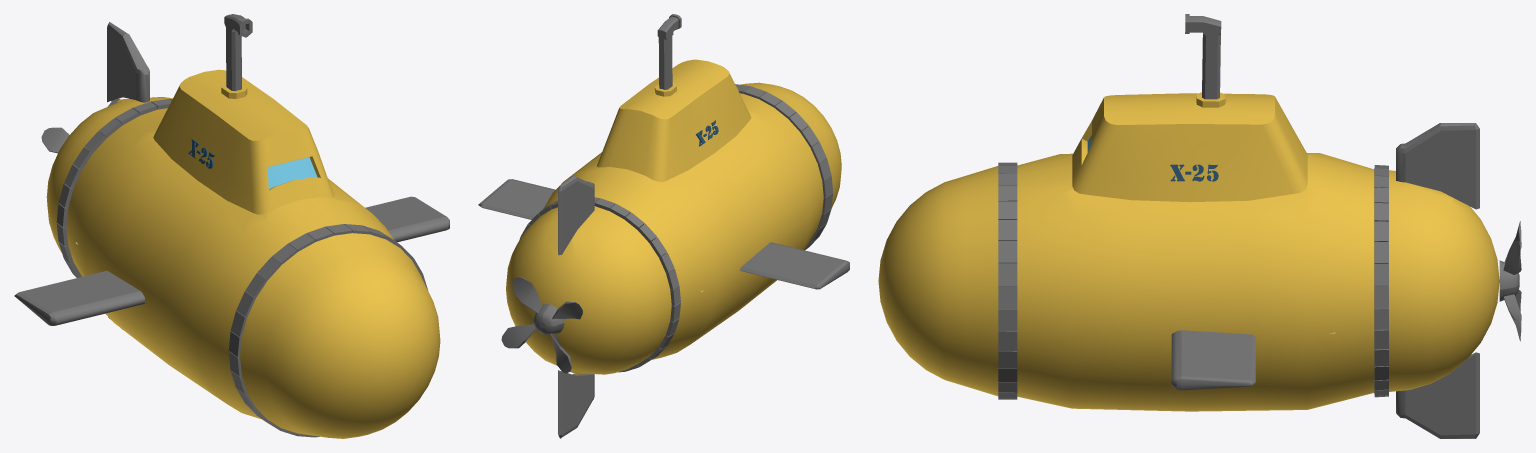
File: submarine.gltf
The picture shows the model from 3 angles, left to right: view 1: azimuth 30°, elevation 25°; view 2: azimuth 150°, elevation 25°; view 3: azimuth 270°, elevation 25°; orthographic projection. The views are drawn at different scales.
Parts seen in each view (by area): view 1: submarine, fins, rudder, screw; view 2: submarine, fins, rudder, screw; view 3: submarine, rudder, fins, screw.
Part boxes in pixels (<box>): submarine: <box>46,14,440,438</box>; fins: <box>14,196,449,325</box>; rudder: <box>107,22,149,329</box>; screw: <box>41,99,120,153</box>; submarine: <box>506,14,841,374</box>; fins: <box>478,179,849,289</box>; rudder: <box>558,175,594,438</box>; screw: <box>501,276,582,373</box>; submarine: <box>878,14,1499,411</box>; rudder: <box>1396,123,1479,438</box>; fins: <box>1171,330,1255,390</box>; screw: <box>1499,221,1521,341</box>.
Size of the model in its own units: 4 by 3.78 by 5.21.
